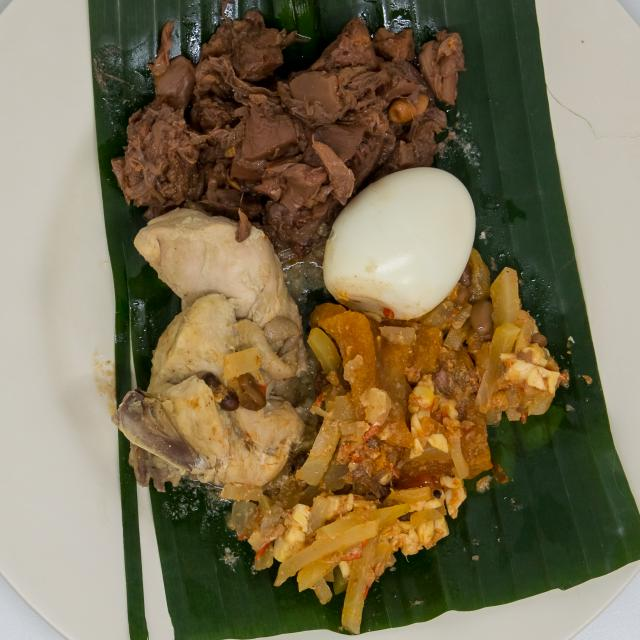Gudeg-Jogja: (93, 9, 566, 623)
